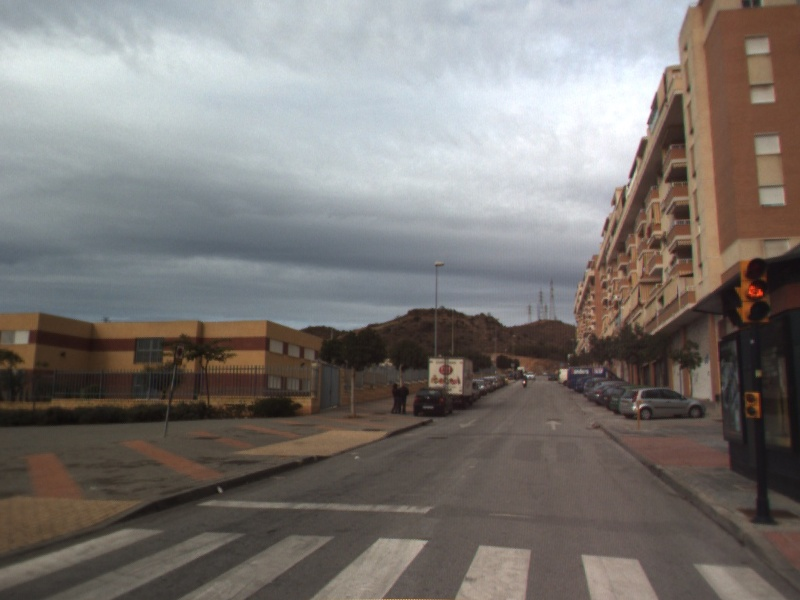STRAIGHT: (543, 418, 564, 432)
